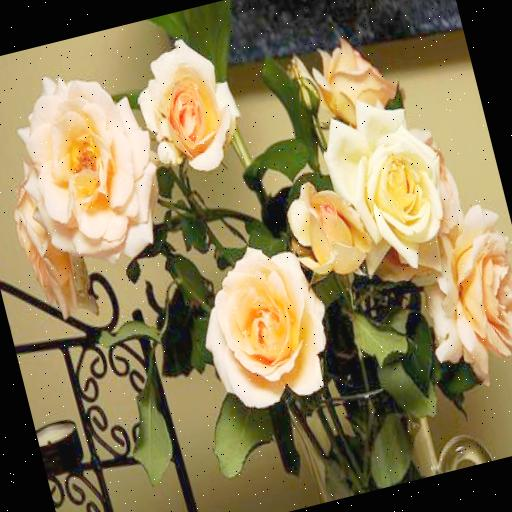rose: (4, 50, 180, 273), (185, 236, 340, 418), (317, 96, 458, 282), (122, 27, 251, 187), (415, 196, 512, 377), (282, 172, 380, 286), (308, 28, 406, 128)
